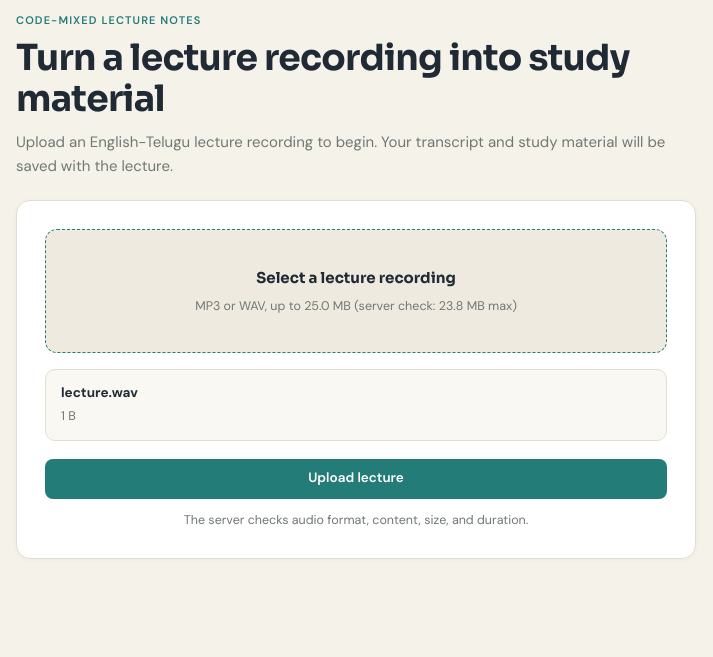
UploadPage › shows the backend error message and permits retry
Earlier steps of the test are not shown.
Click the button "Upload lecture" at (356, 479), box x1=45 y1=459 x2=667 y2=499
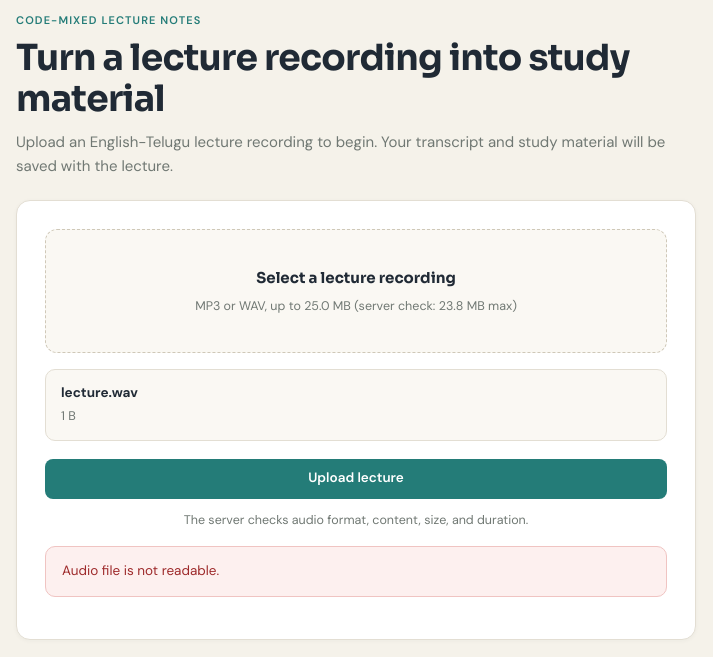
Check: the message reads "Audio file is not readable.", box x1=62 y1=562 x2=219 y2=579
